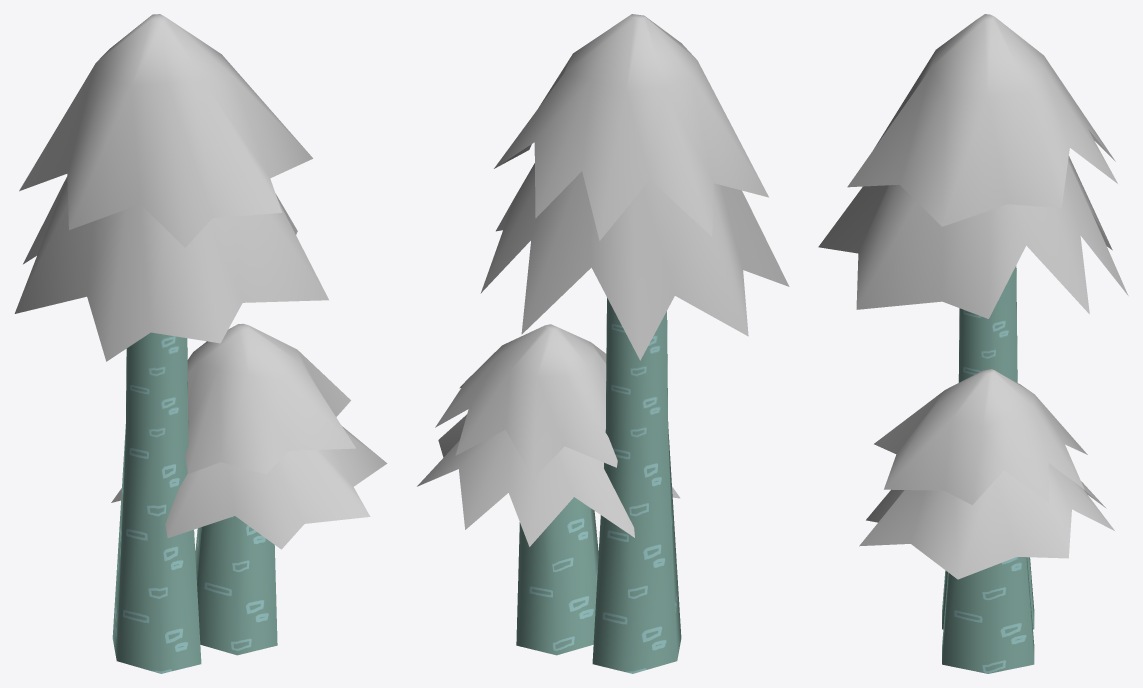
The model's file is S_Tree_L.fbx.
3 views of the same model, side by side, from view 1: azimuth 30°, elevation 25°; view 2: azimuth 150°, elevation 25°; view 3: azimuth 270°, elevation 25° (orthographic). The views are drawn at different scales.
Parts seen in each view (by area): view 1: S_Tree_l_m; view 2: S_Tree_l_m; view 3: S_Tree_l_m.
Boxes of the visible parts, box(x1,y1,x2,y2) form: S_Tree_l_m: box(14, 14, 387, 673); S_Tree_l_m: box(417, 14, 789, 673); S_Tree_l_m: box(818, 14, 1128, 673).
Bounding box in the file's own units: 38.02 × 67.48 × 31.52.
